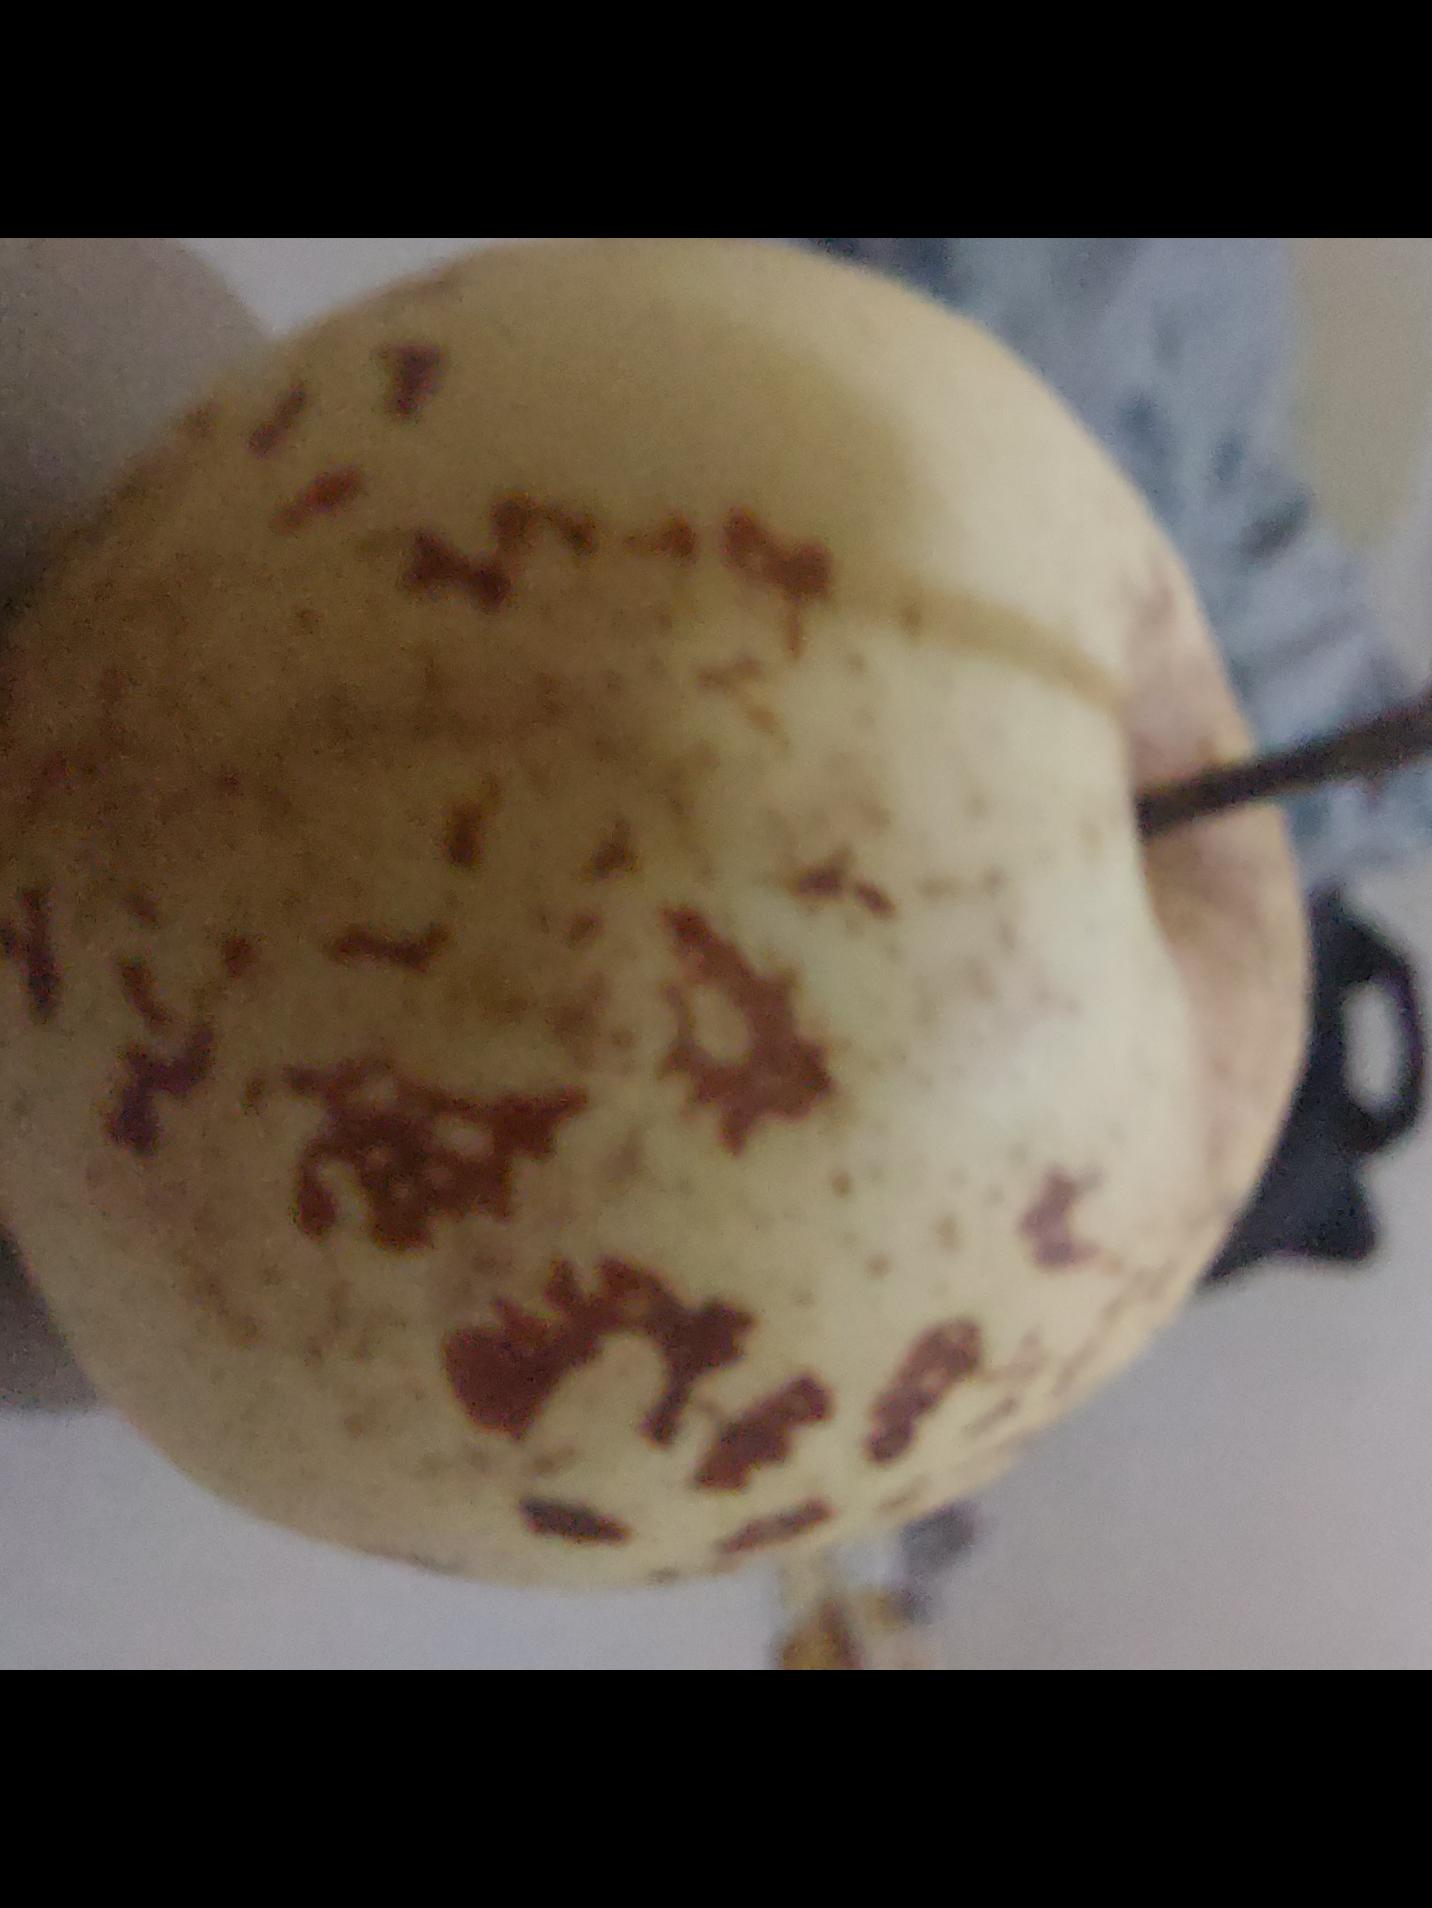Bad Pear: (0, 238, 1331, 1603)
